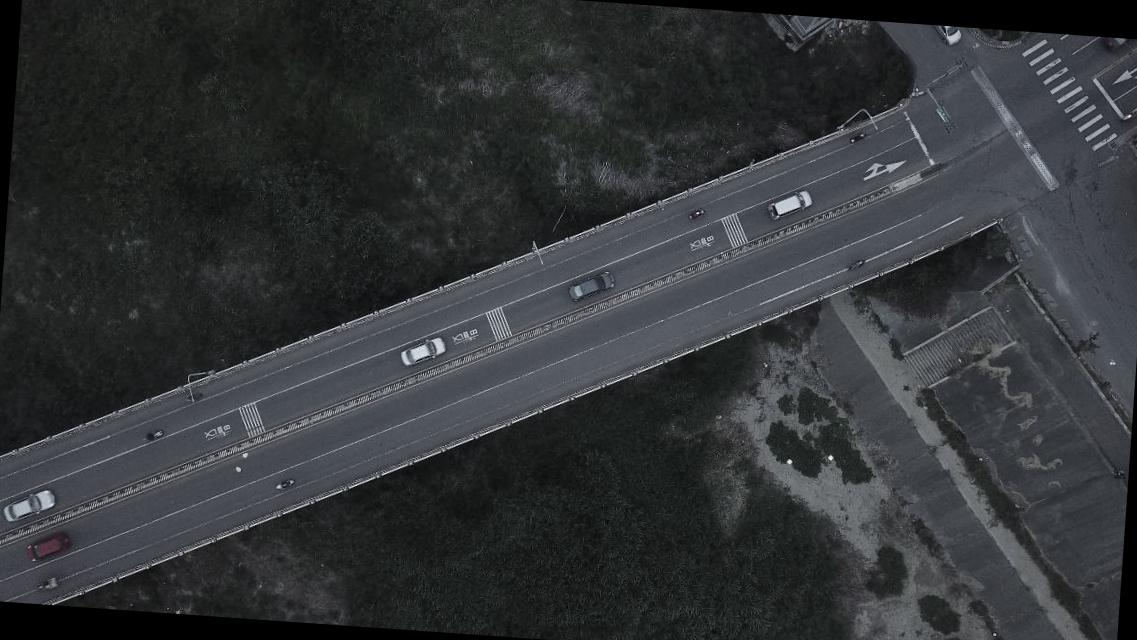vehicle: (0, 482, 56, 526), (398, 334, 447, 369), (766, 184, 811, 222), (568, 269, 614, 304), (24, 532, 74, 562), (930, 26, 962, 50)
